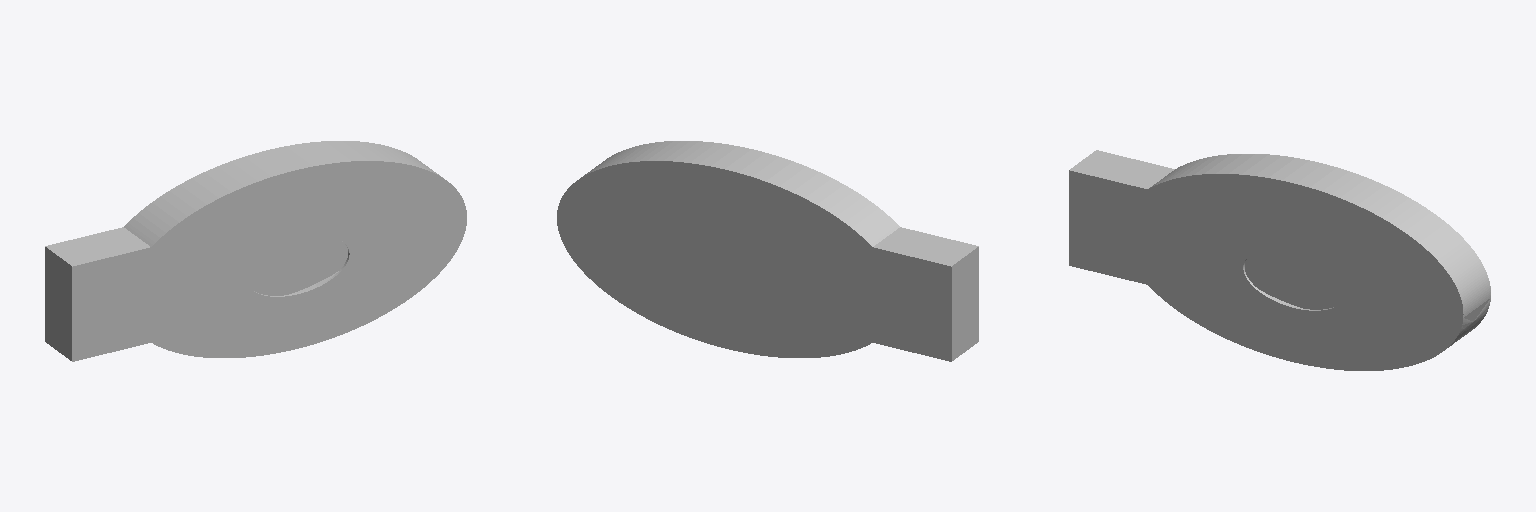
File: arena.obj
3 renders of one model, left to right at view 1: azimuth 30°, elevation 25°; view 2: azimuth 150°, elevation 25°; view 3: azimuth 330°, elevation 25°, orthographic.
Visible parts, largest first — view 1: arena; view 2: arena; view 3: arena.
Boxes of the visible parts, x1,y1,x2,y2 form: arena: [45, 141, 466, 361]; arena: [557, 141, 978, 361]; arena: [1069, 150, 1490, 370].
Bounding box in the file's own units: 173 × 74.99 × 21.